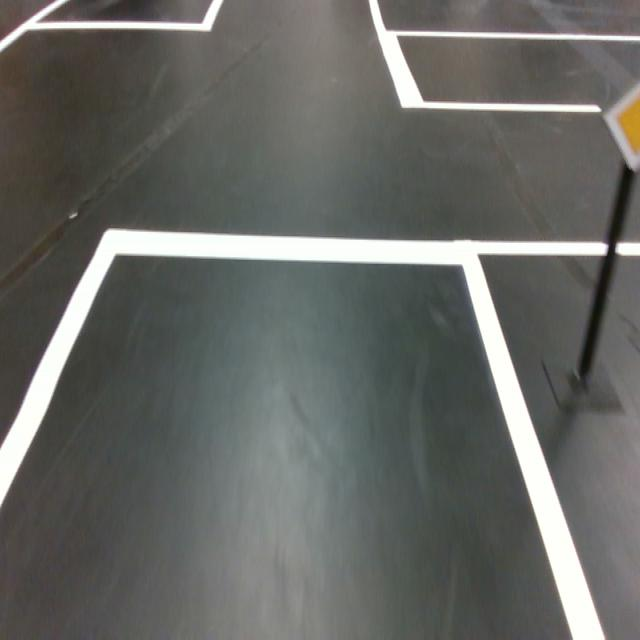priority-sign: (601, 79, 640, 175)
